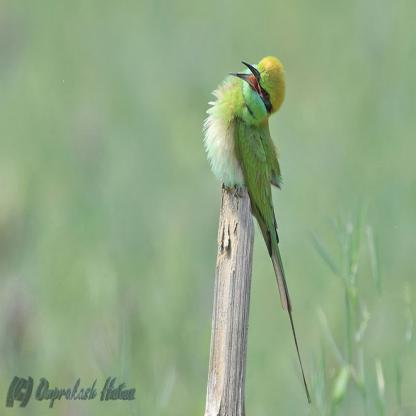Burung: (202, 54, 312, 405)
